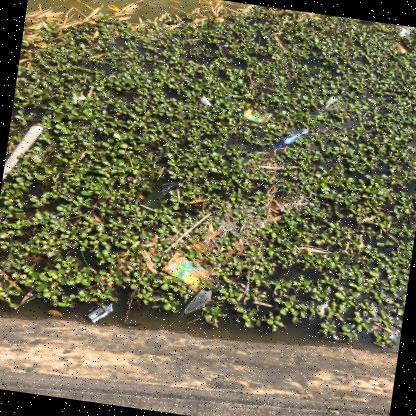Clear plastic bottle: (275, 128, 308, 148)
Other plastic: (160, 251, 210, 292), (84, 301, 112, 323), (243, 109, 273, 123)
Plastic bottle cap: (275, 144, 280, 148)
Plastic film: (183, 289, 211, 314), (323, 96, 347, 111), (155, 183, 176, 199)
Unlabeled litter: (200, 95, 211, 107), (398, 28, 410, 37), (401, 25, 415, 32), (312, 73, 318, 77)
